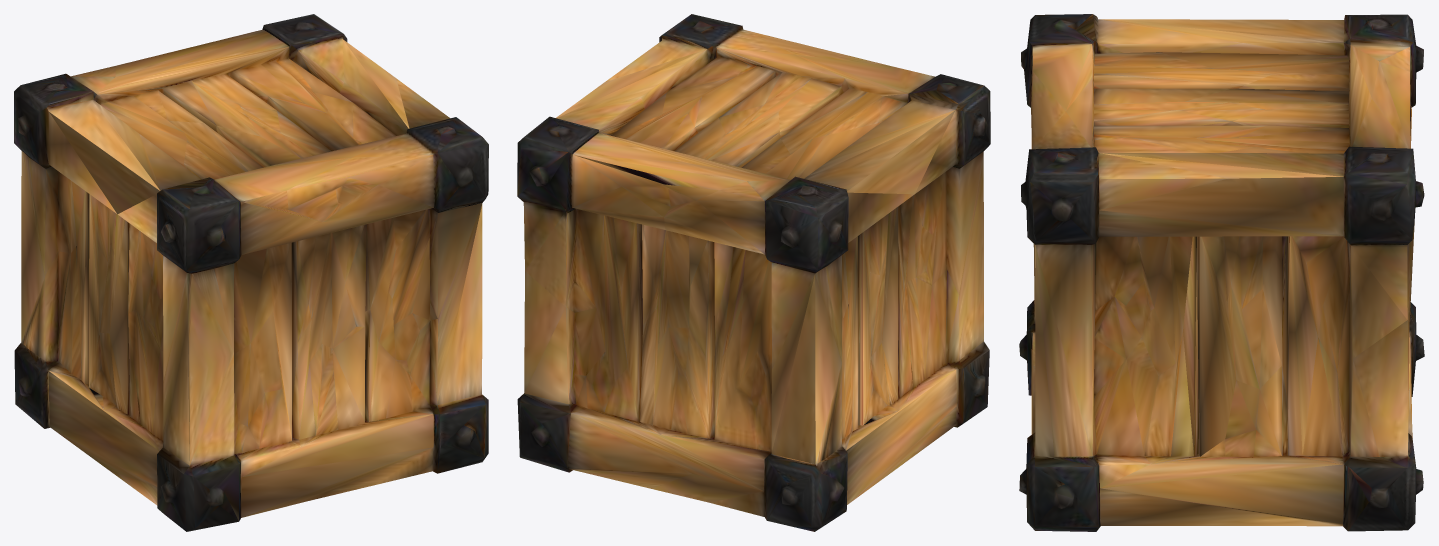
File: caixa-oDGna072.glb
3 views of the same model, side by side, from view 1: azimuth 30°, elevation 25°; view 2: azimuth 150°, elevation 25°; view 3: azimuth 270°, elevation 25° (orthographic). The views are drawn at different scales.
Visible parts, largest first — view 1: objeto; view 2: objeto; view 3: objeto.
Boxes of the visible parts, x1,y1,x2,y2 form: objeto: [14, 14, 488, 531]; objeto: [517, 14, 990, 531]; objeto: [1019, 14, 1424, 531].
Size of the model in its own units: 1 by 0.9999 by 1.
Materials: 1 (1 with a texture image).
